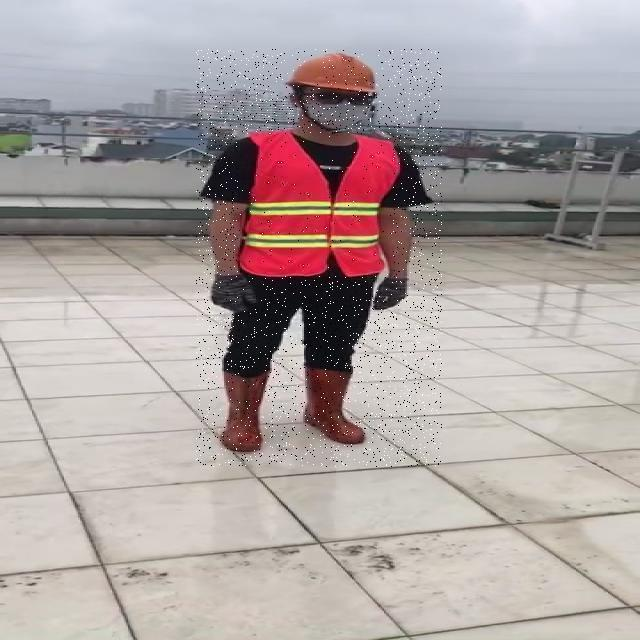gloves: (211, 274, 257, 313), (371, 278, 409, 311)
goggles: (288, 93, 376, 107)
helmet: (285, 50, 388, 93)
safety_vest: (238, 134, 393, 276)
